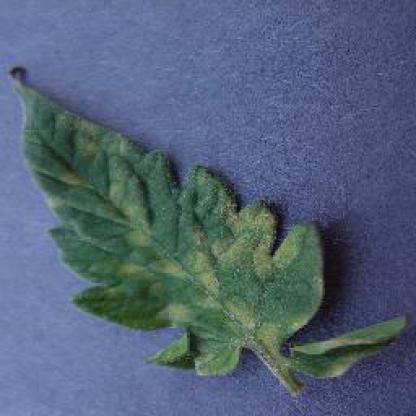bad leaf: (13, 73, 385, 388)
